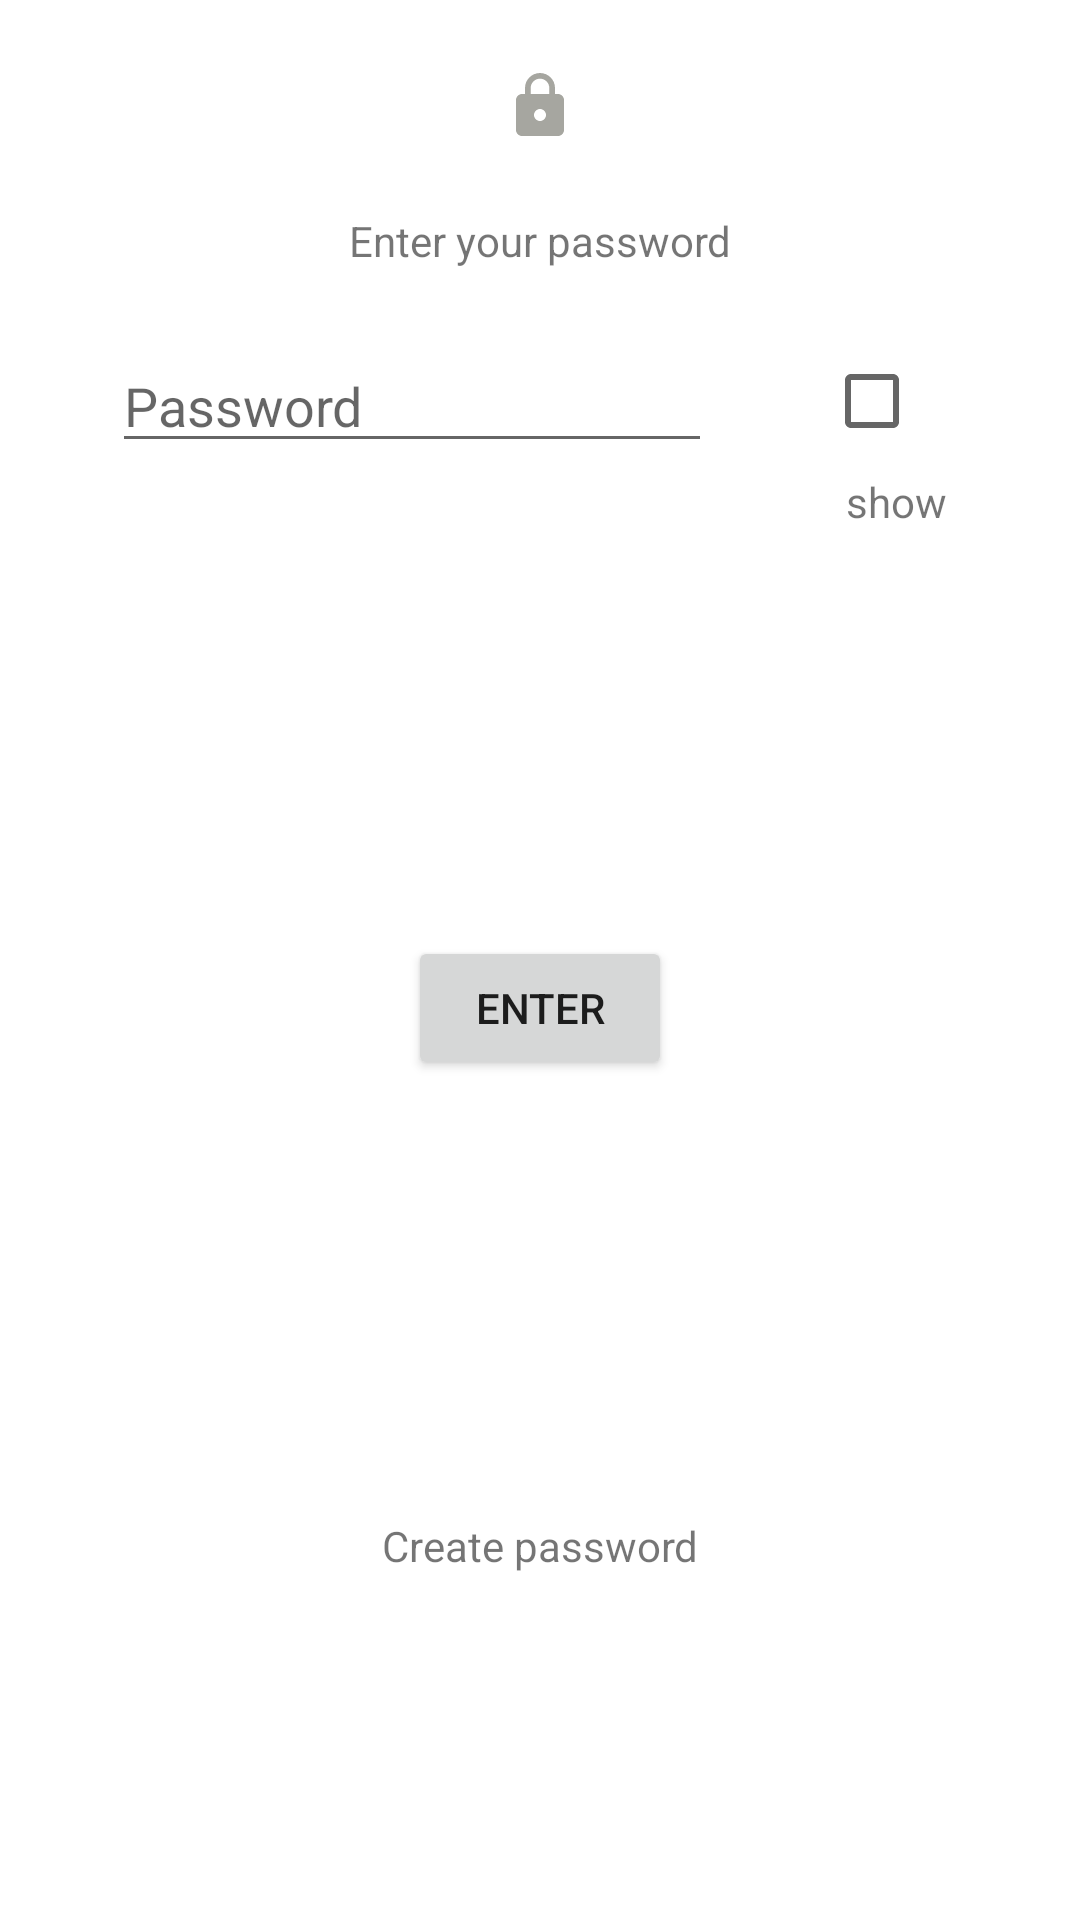

Icons on this 1080 x 1920 Android screen, each with the point to tap as [x,y]:
lock: [540,104]
